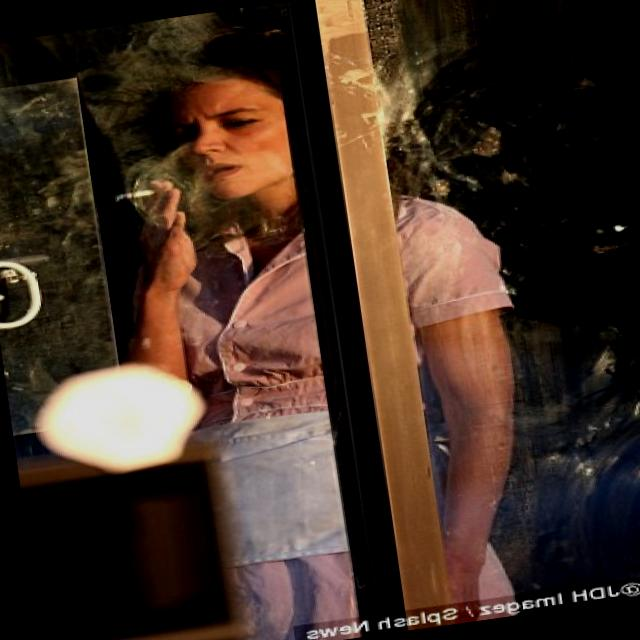smoke: (118, 185, 149, 208)
